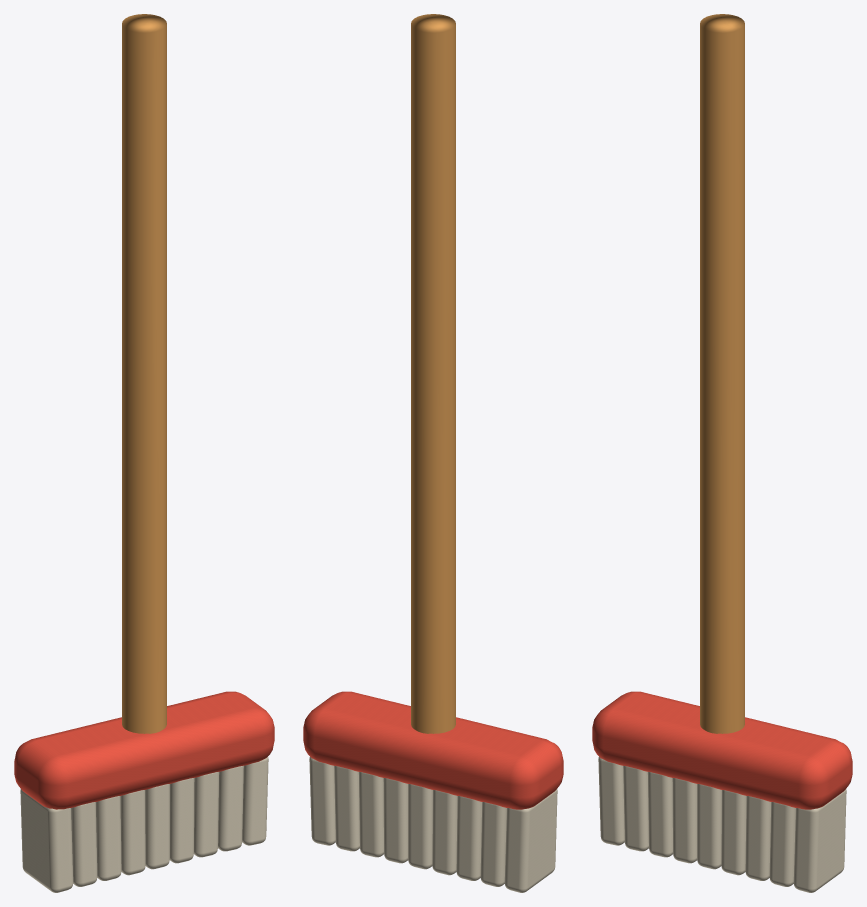
Rendered from BROOM.glb.
3 renders of one model, left to right at view 1: azimuth 30°, elevation 25°; view 2: azimuth 150°, elevation 25°; view 3: azimuth 330°, elevation 25°, orthographic.
Visible parts, largest first — view 1: BROOM; view 2: BROOM; view 3: BROOM.
Part boxes in pixels (bbox=[...]): BROOM: bbox=[14, 14, 274, 892]; BROOM: bbox=[303, 14, 563, 892]; BROOM: bbox=[592, 14, 852, 892].
Bounding box in the file's own units: 0.3 × 1.02 × 0.095.
Materials: 3 (3 with a texture image).
